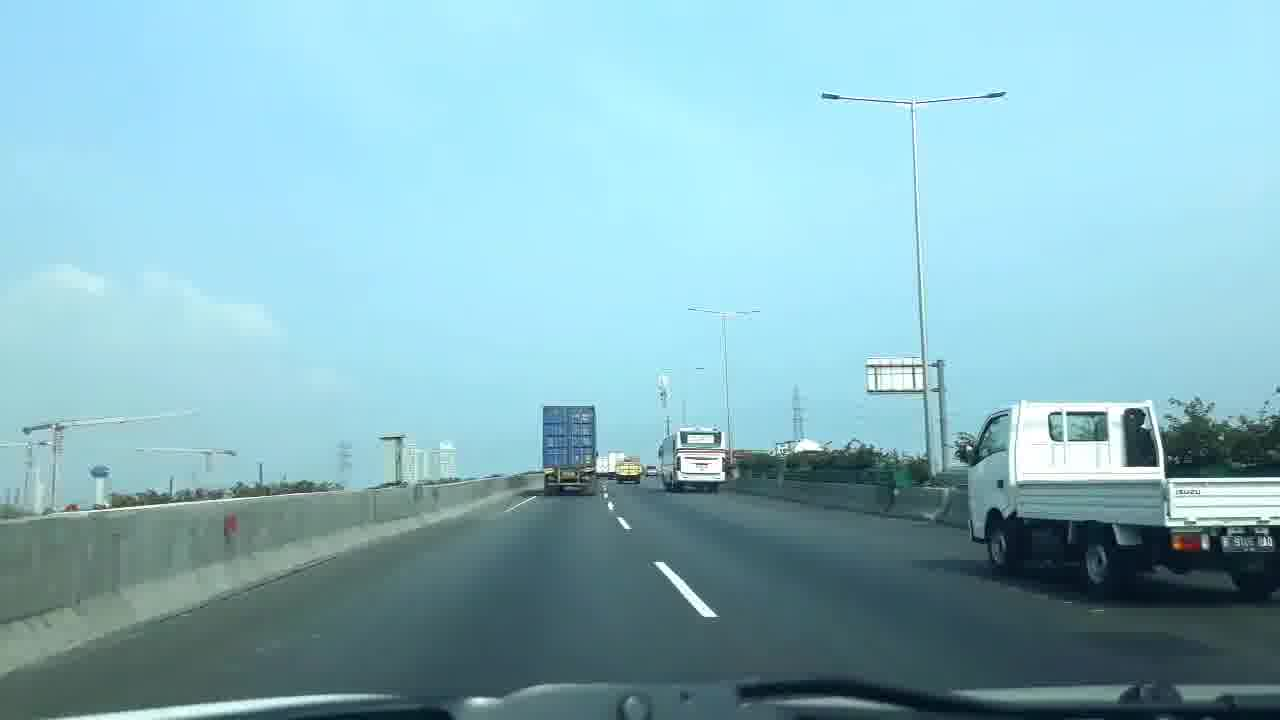plate_positive: (1221, 536, 1276, 552)
